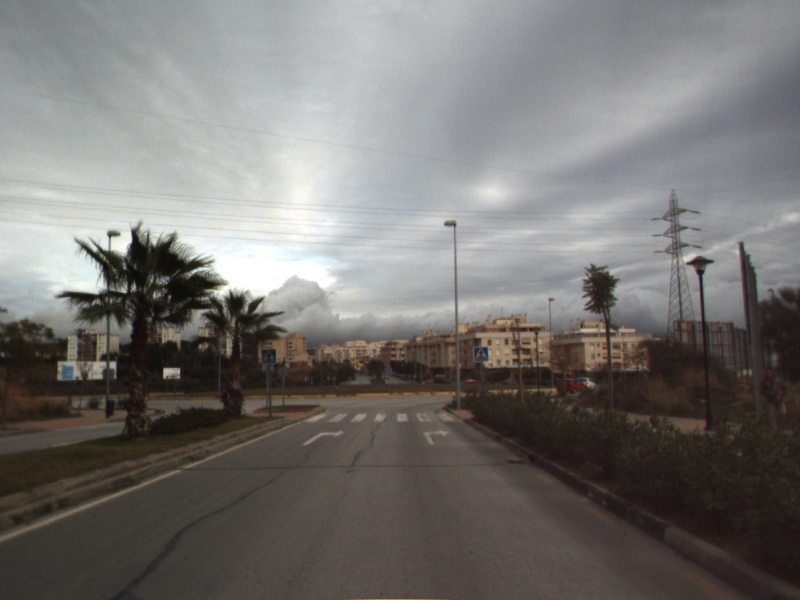RIGHT: (300, 428, 346, 447), (421, 428, 450, 446)
